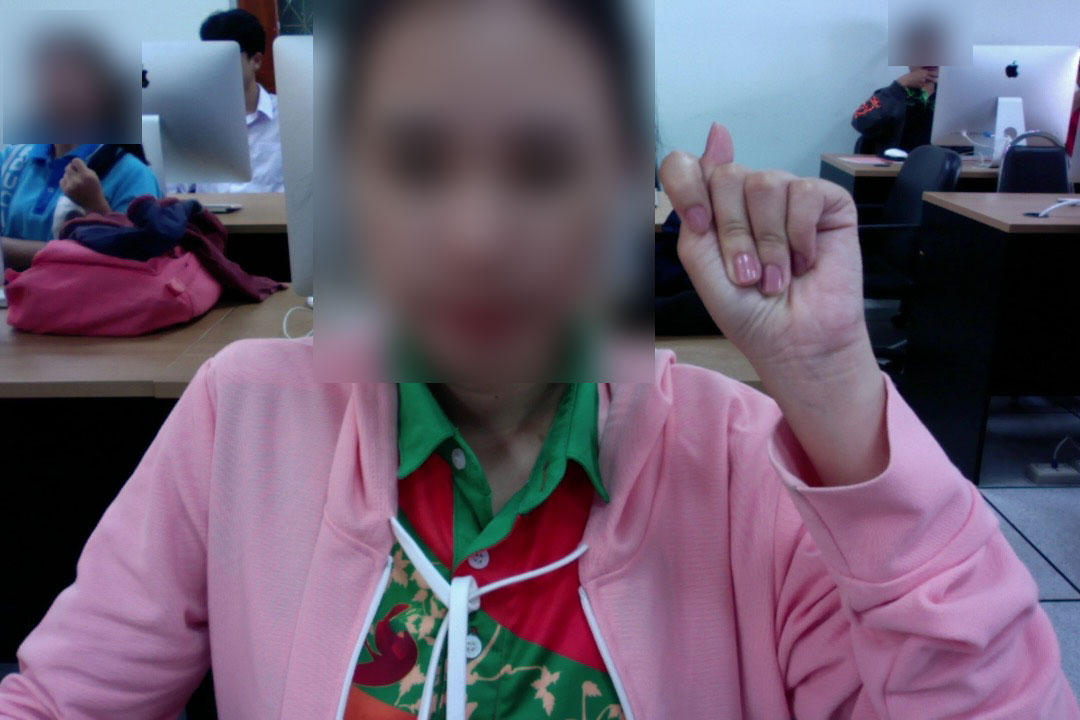tor: (653, 119, 873, 364)
